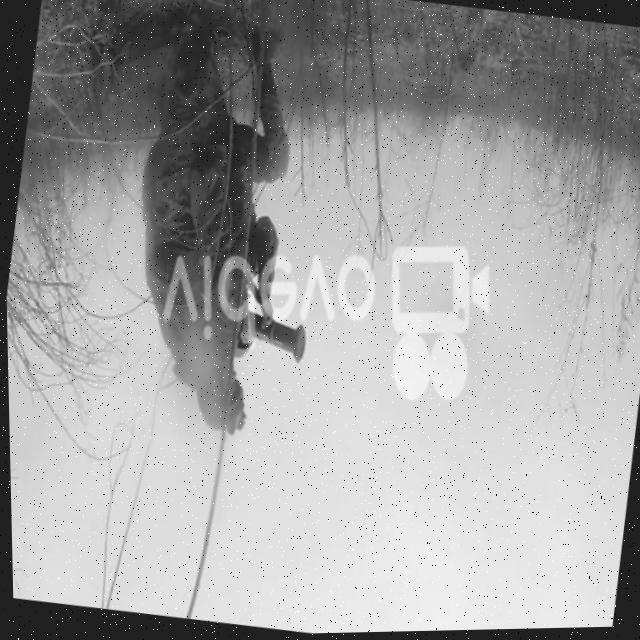rocket: (239, 299, 313, 376)
